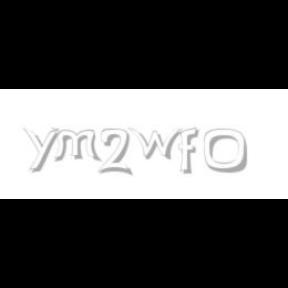2: (97, 128, 131, 176)
O: (204, 128, 248, 174)
f: (179, 128, 203, 174)
m: (50, 128, 102, 162)
w: (127, 128, 186, 160)
y: (23, 128, 63, 172)
